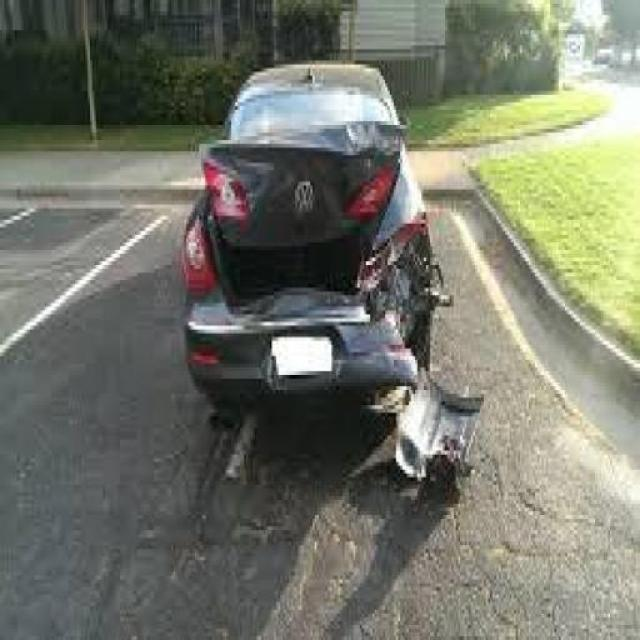crush: (200, 118, 479, 492)
